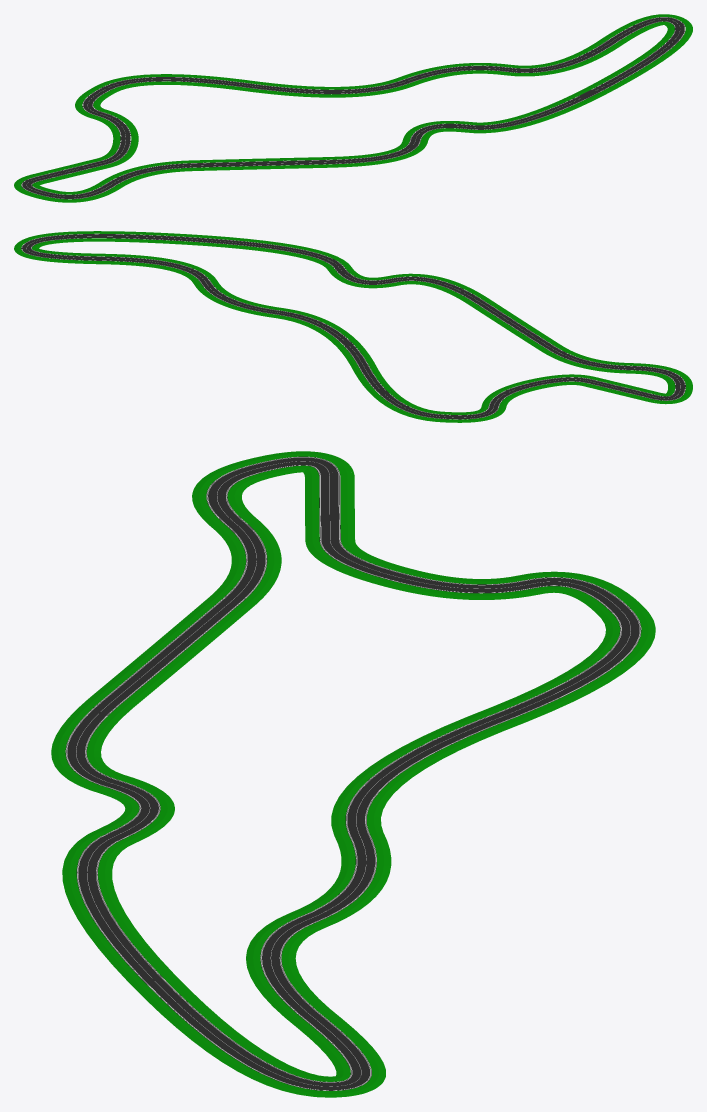
The model's file is Spa.Flat.glb.
3 views of the same model, one above another, from view 1: azimuth 30°, elevation 25°; view 2: azimuth 150°, elevation 25°; view 3: azimuth 270°, elevation 25° (orthographic). The views are drawn at different scales.
Visible parts, largest first — view 1: Track; view 2: Track; view 3: Track.
Part boxes in pixels (box(x1,y1,x2,y2)): Track: box(14, 14, 692, 202); Track: box(14, 231, 692, 422); Track: box(51, 451, 655, 1097).
Size of the model in its own units: 1075 by 0.6607 by 425.
